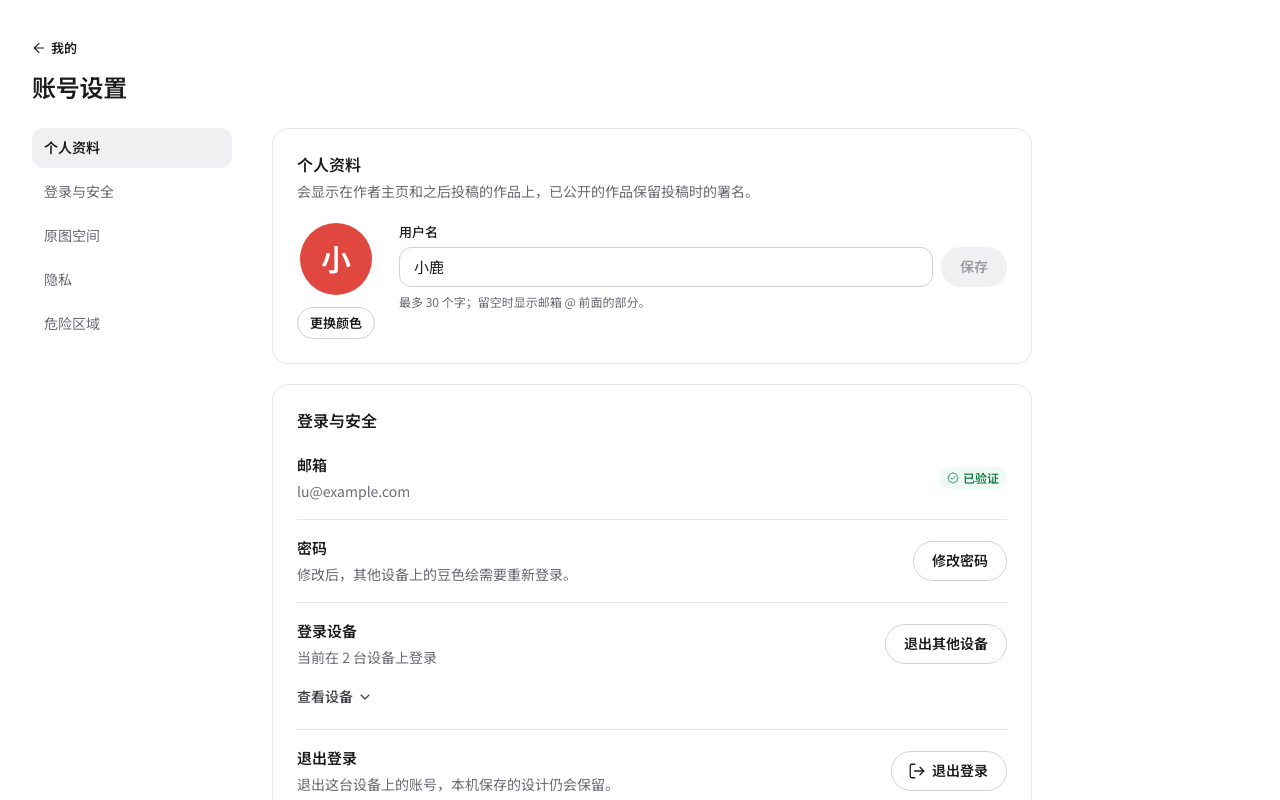
Test: 账号设置 › 修改密码：客户端校验两次不一致，服务端的当前密码错误挂在字段下
Click the button "修改密码". click: x=960, y=561
box: [913, 541, 1007, 581]
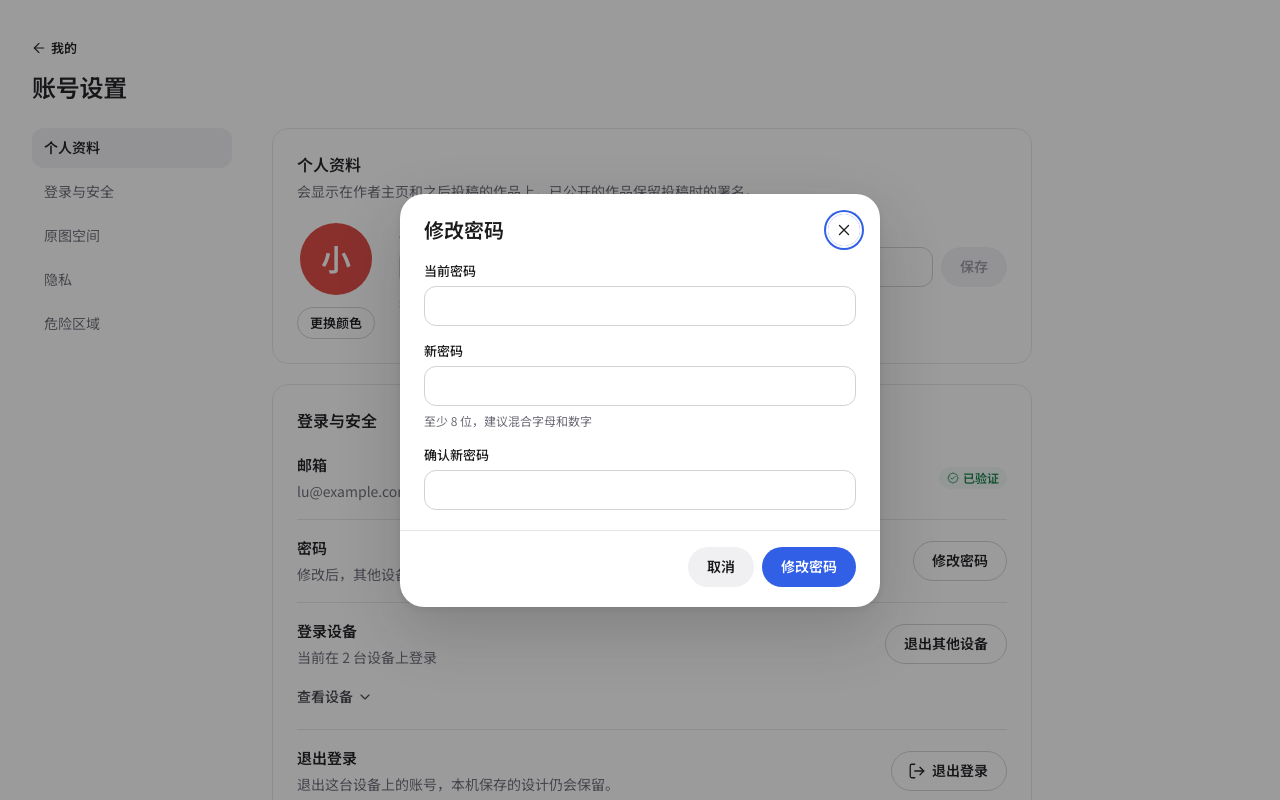
Type "old-password" into the password field labelled "当前密码". click: x=640, y=306
box: [424, 286, 856, 326]
Type "newpassword1" into the password field labelled "新密码". click: x=640, y=386
box: [424, 366, 856, 406]
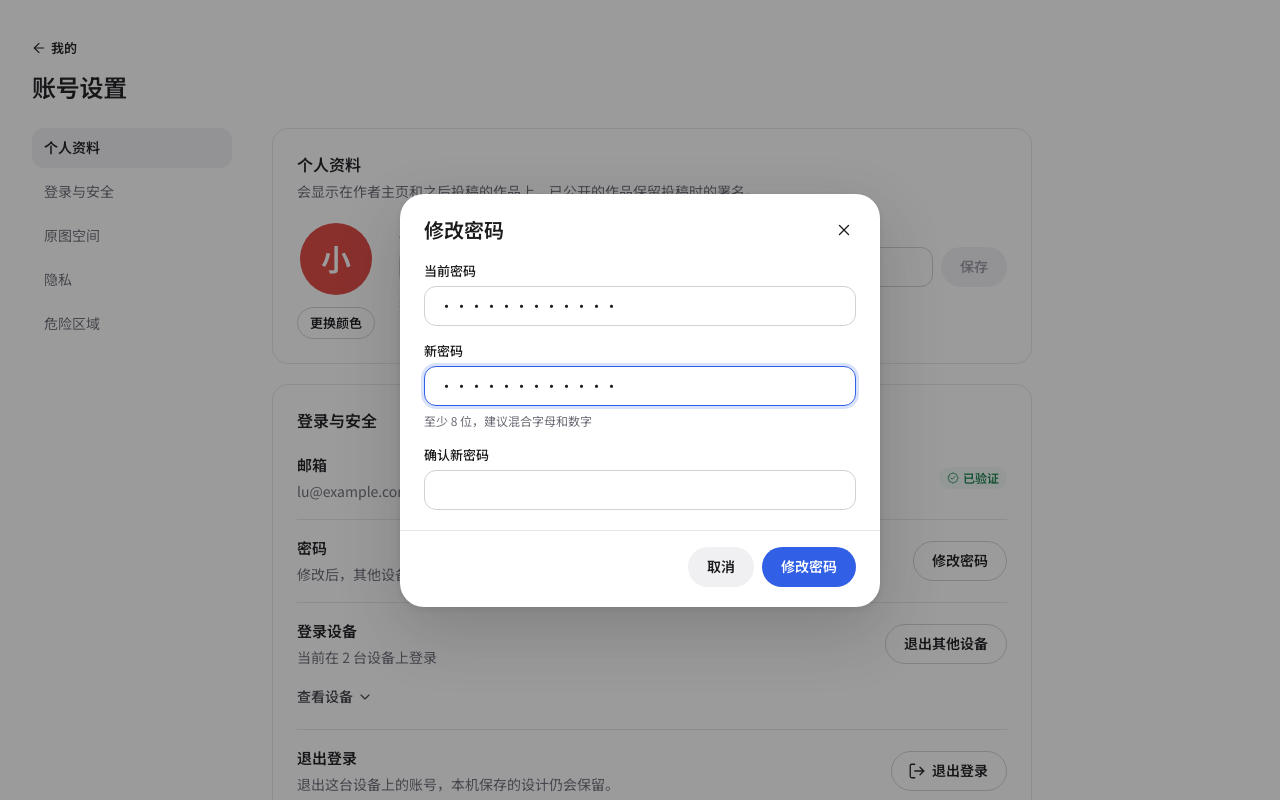
Type "newpassword2" into the password field labelled "确认新密码". click: x=640, y=490
box: [424, 470, 856, 510]
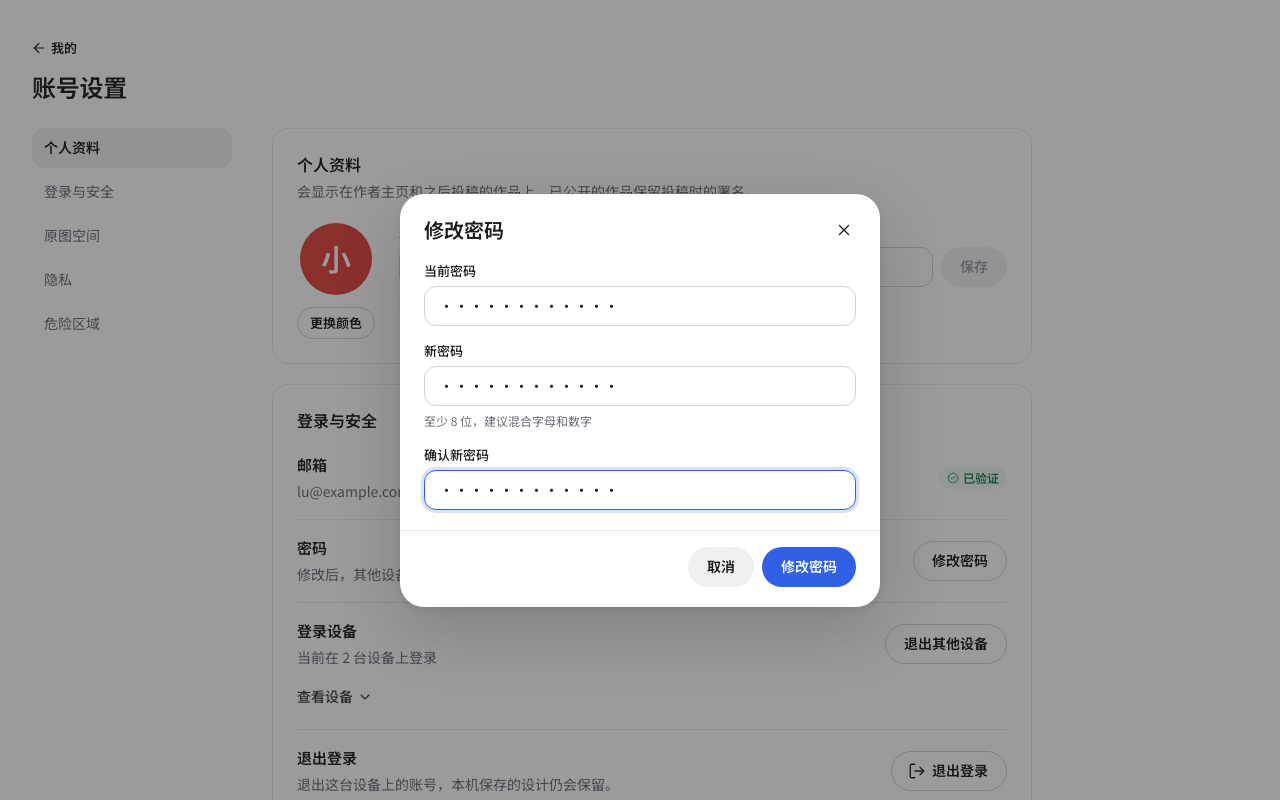
Click the button "修改密码". click: x=809, y=566
box: [762, 546, 856, 586]
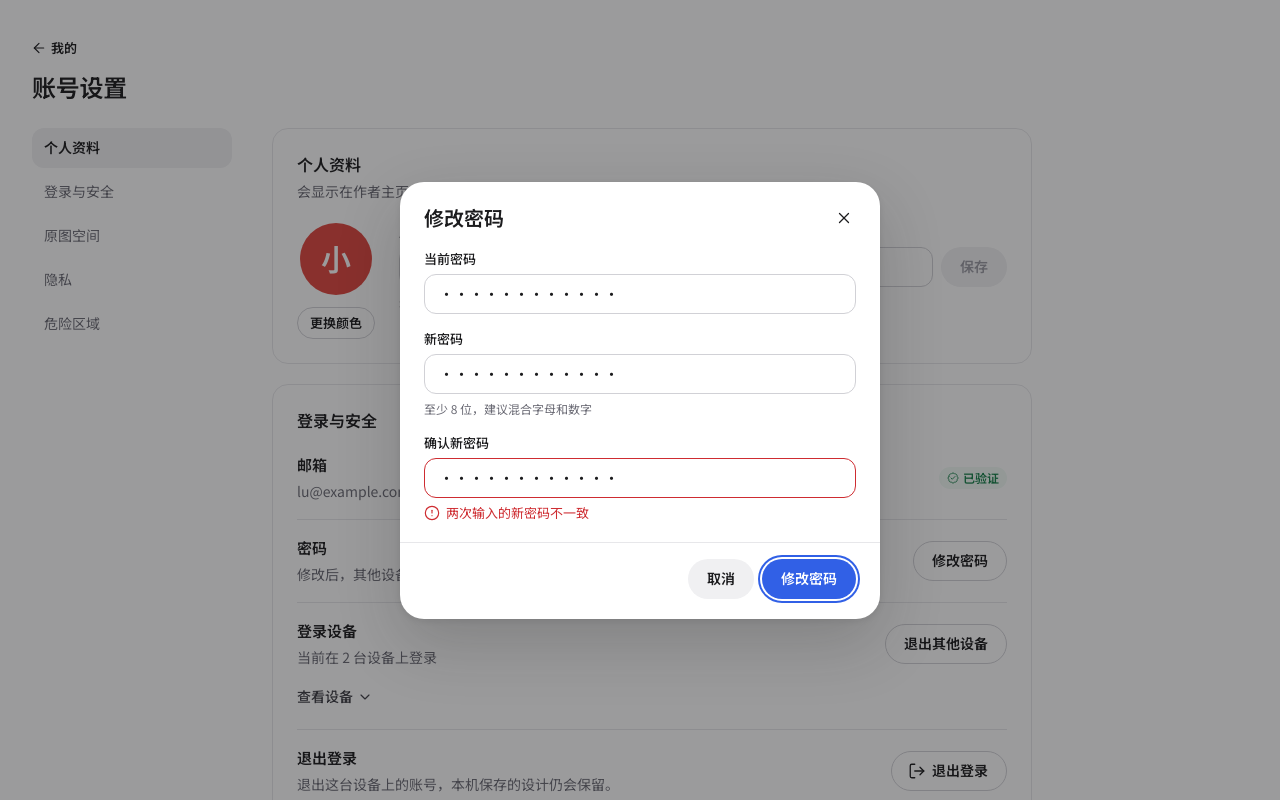
Expected: the text "两次输入的新密码不一致" is shown, [446, 504, 589, 522]
Clear the password field labelled "确认新密码". click: x=640, y=478
box: [424, 458, 856, 498]
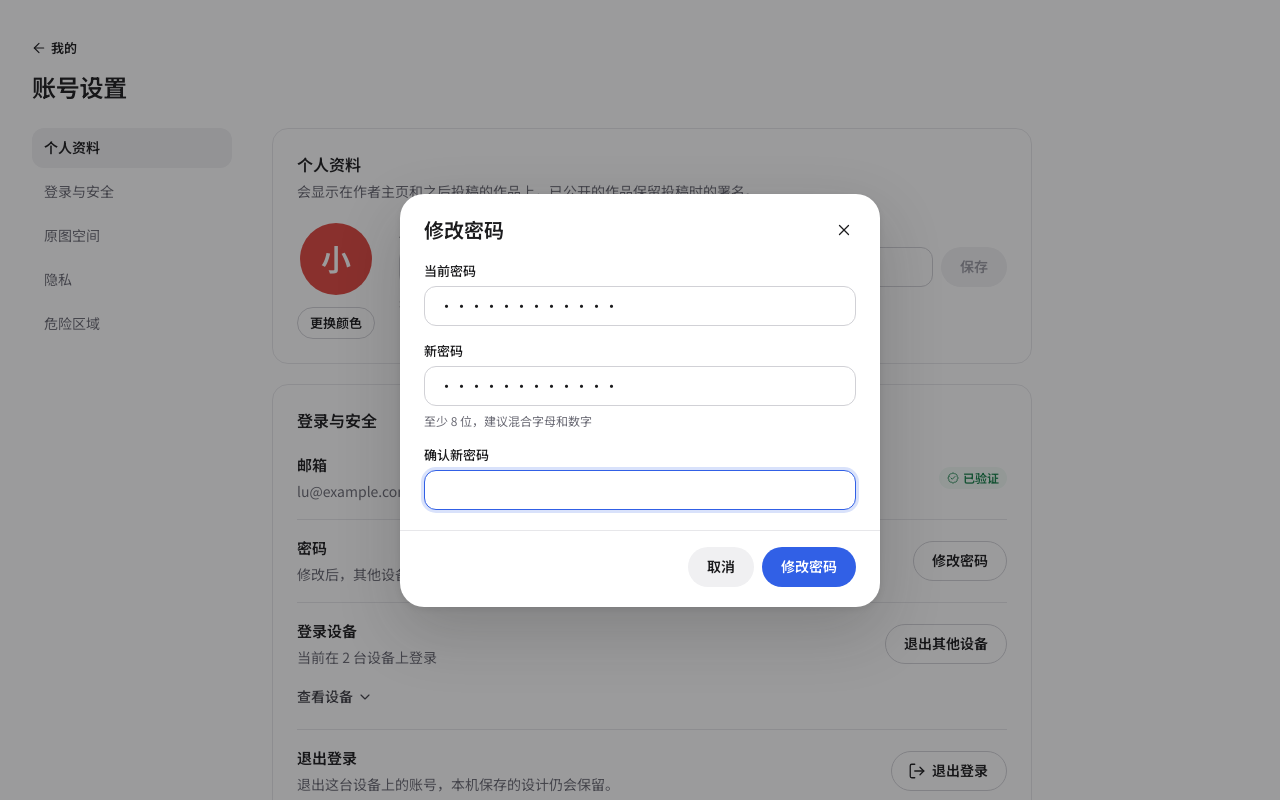
Type "newpassword1" into the password field labelled "确认新密码". click: x=640, y=490
box: [424, 470, 856, 510]
Click the button "修改密码". click: x=809, y=566
box: [762, 546, 856, 586]
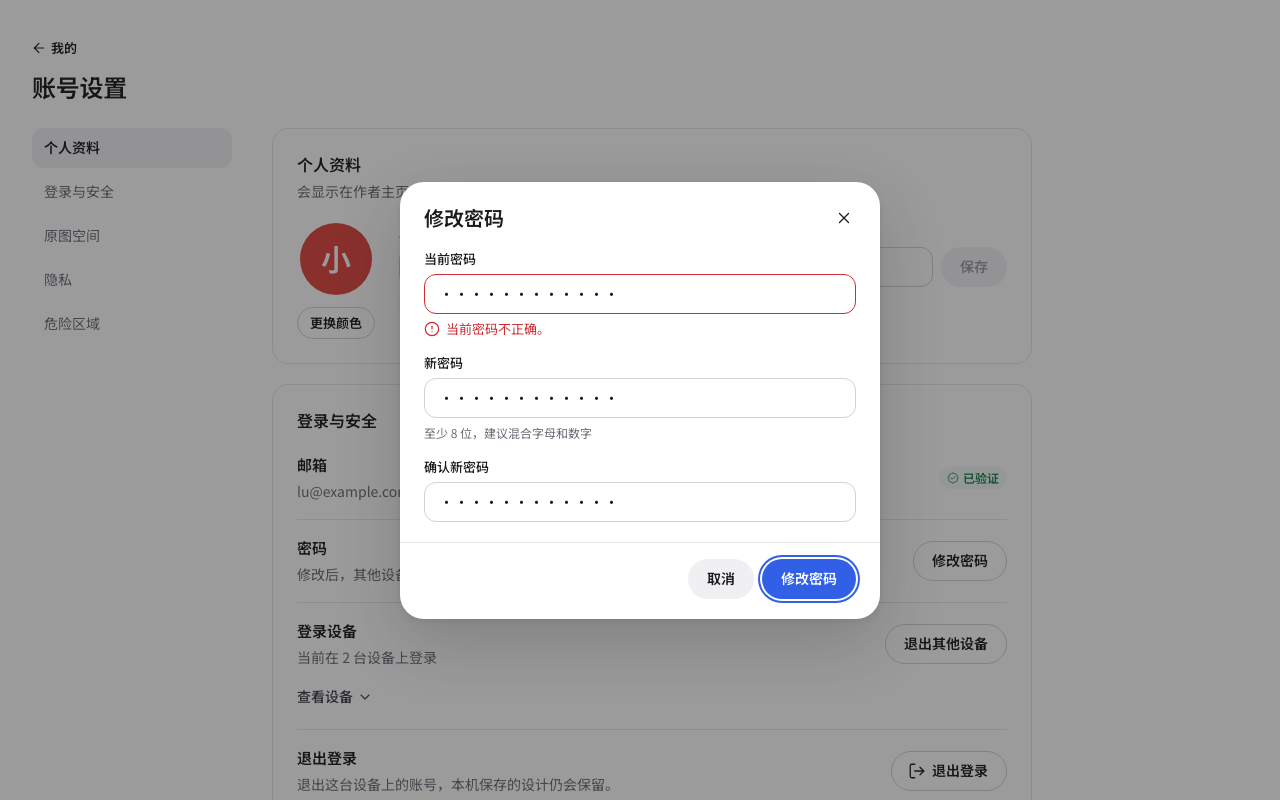
Expected: the text "当前密码不正确。" is shown, [446, 320, 550, 338]
